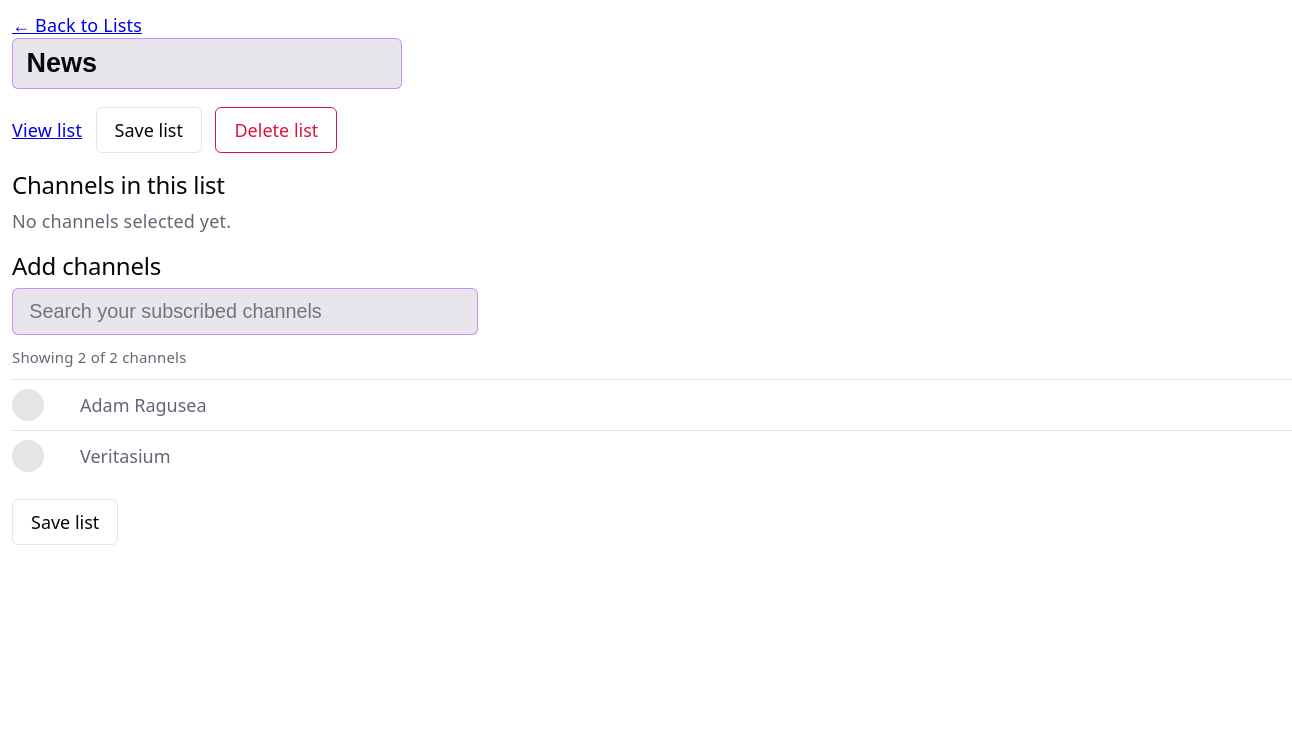
Test: ListEditorPage › filters search results by the search text
Expected: the button "Adam Ragusea" is shown, [80,392,206,418]
Expected: the button "Veritasium" is shown, [80,442,170,469]
Type "veri" into the field with placeholder "Search your subscribed channels" at (245, 311), box [12,288,478,334]
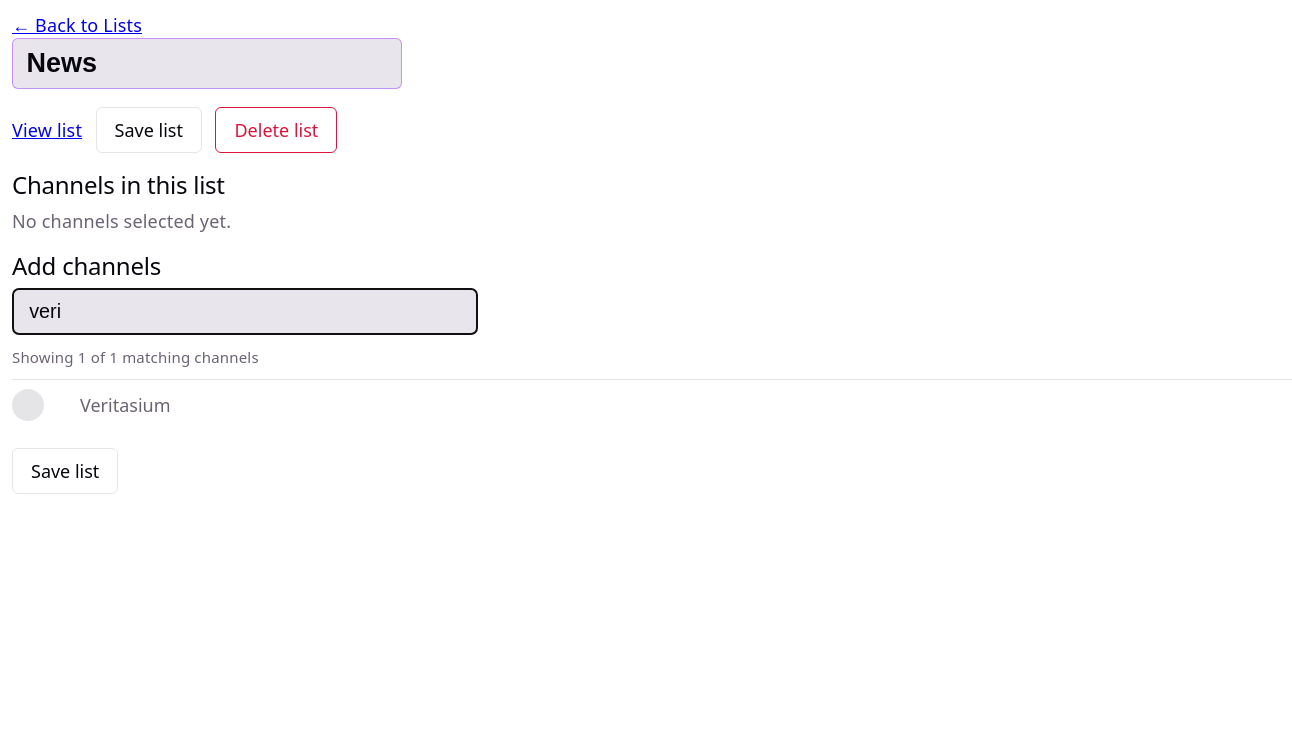
Expected: the button "Veritasium" is shown, [80,392,170,418]
Now the button "Adam Ragusea" is gone
